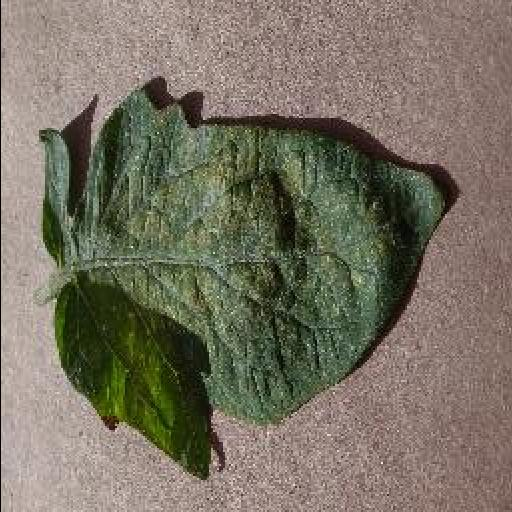disease_tomato: (42, 95, 444, 481)
